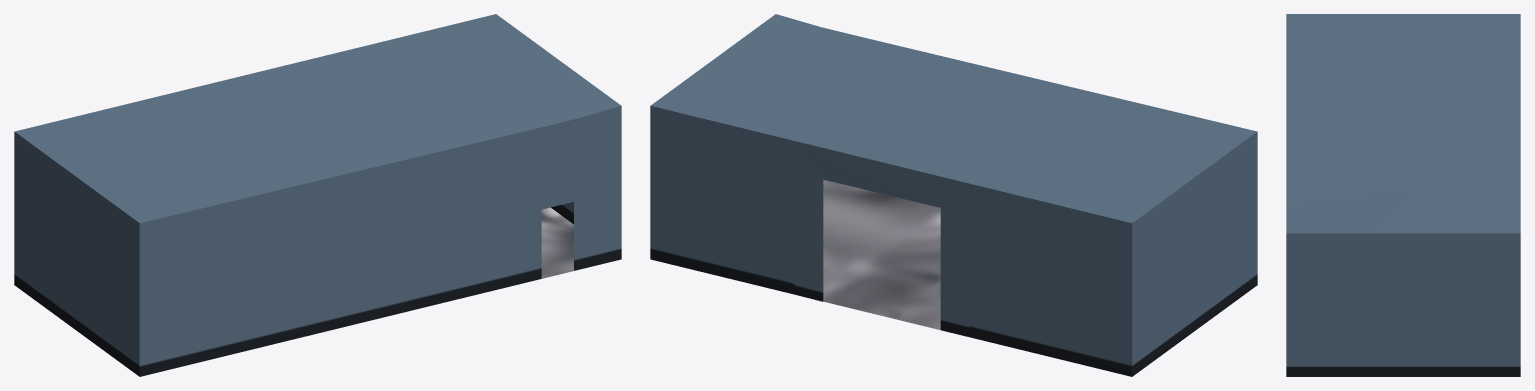
File: elevatorRoom.obj
3 views of the same model, side by side, from view 1: azimuth 30°, elevation 25°; view 2: azimuth 150°, elevation 25°; view 3: azimuth 270°, elevation 25° (orthographic). The views are drawn at different scales.
Parts seen in each view (by area): view 1: Cube.001; view 2: Cube.001; view 3: Cube.001.
Boxes of the visible parts, left/top/right/bottom form: Cube.001: left=14, top=14, right=621, bottom=376; Cube.001: left=650, top=14, right=1257, bottom=376; Cube.001: left=1286, top=14, right=1520, bottom=376.
Bounding box in the file's own units: 13.12 × 4.01 × 5.91.
Materials: 1 (1 with a texture image).
